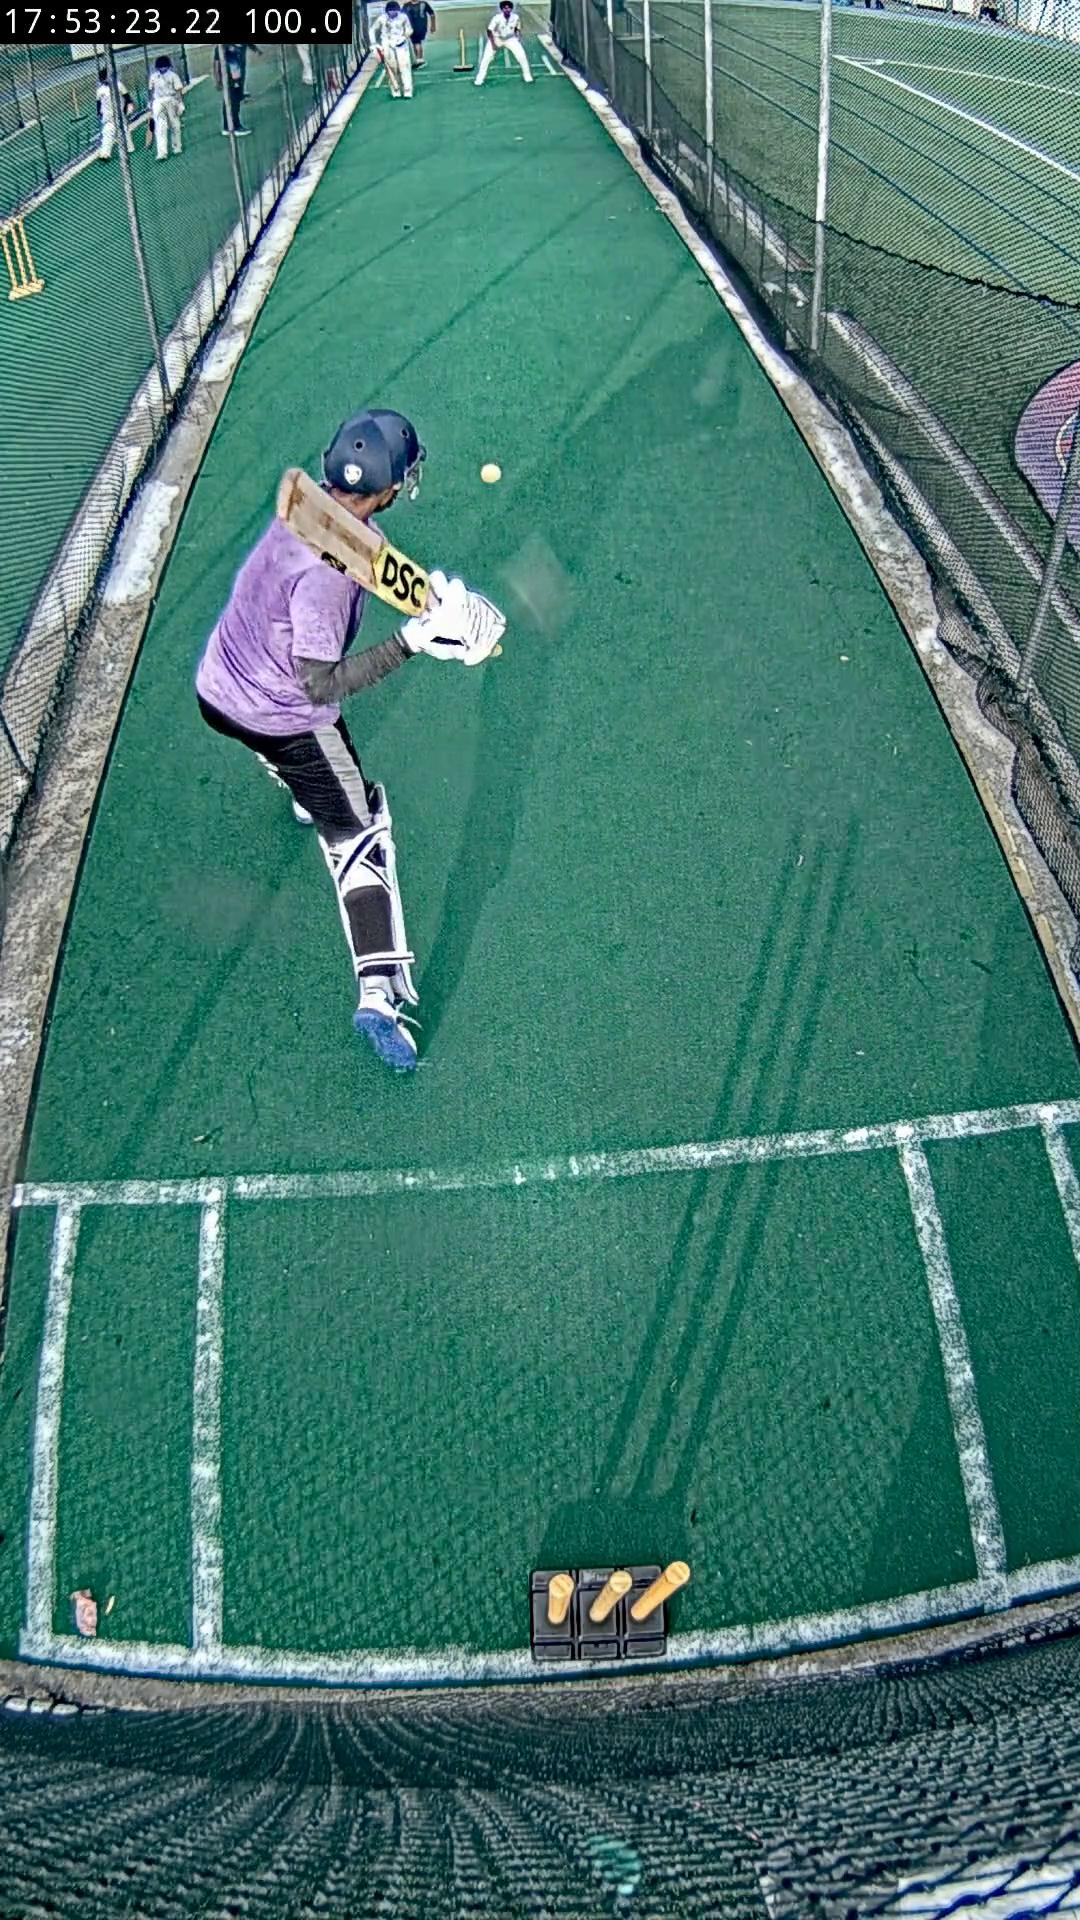ball: (480, 465, 502, 484)
bat: (277, 468, 427, 615)
gloves: (401, 570, 506, 662)
helmet: (323, 409, 427, 495)
stumps: (533, 1564, 690, 1662)
